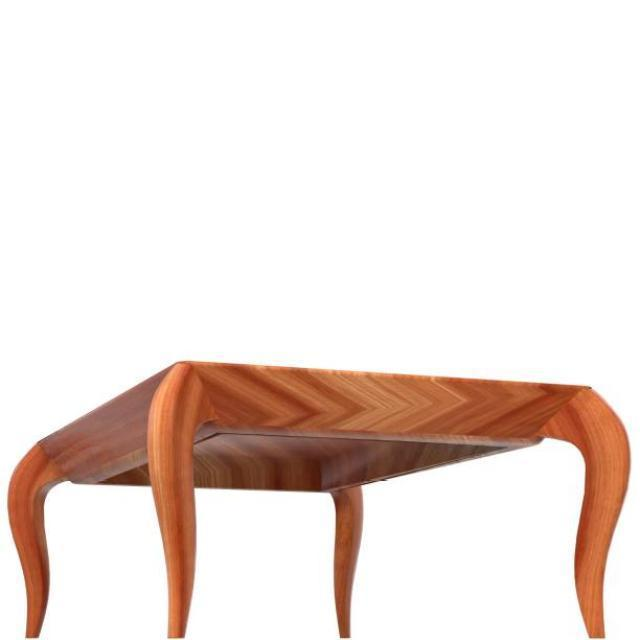table: (6, 358, 632, 639)
